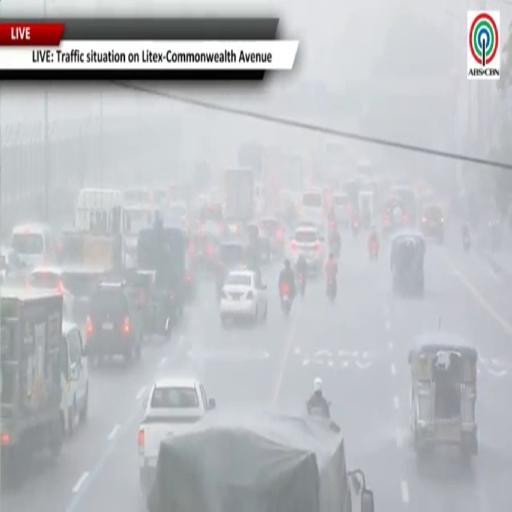car: (138, 377, 215, 494), (86, 282, 142, 364), (28, 266, 102, 324), (61, 320, 88, 436), (220, 270, 267, 325), (27, 267, 72, 317), (11, 222, 57, 267), (215, 239, 250, 295), (291, 226, 324, 274), (247, 222, 271, 264), (0, 246, 26, 283), (259, 218, 284, 255), (421, 204, 444, 244), (300, 190, 325, 222), (333, 192, 351, 228)
motorcycle: (306, 402, 330, 419), (280, 283, 291, 315), (330, 237, 341, 260), (327, 278, 336, 301), (463, 226, 471, 251), (297, 272, 305, 297), (369, 240, 378, 261), (352, 218, 360, 236), (463, 236, 471, 251)
truck: (147, 411, 374, 511), (0, 287, 65, 484), (225, 167, 254, 222), (237, 142, 264, 180)
